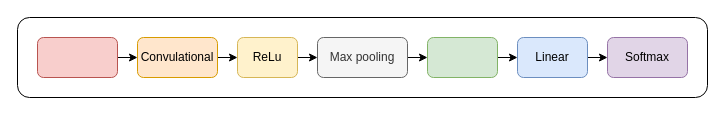
Image size: 725x115. Some labels were removed from this diagram. Each missing label, with the centre of its shape:
Dropout: the point at 462,57
Embedding: the point at 77,57
